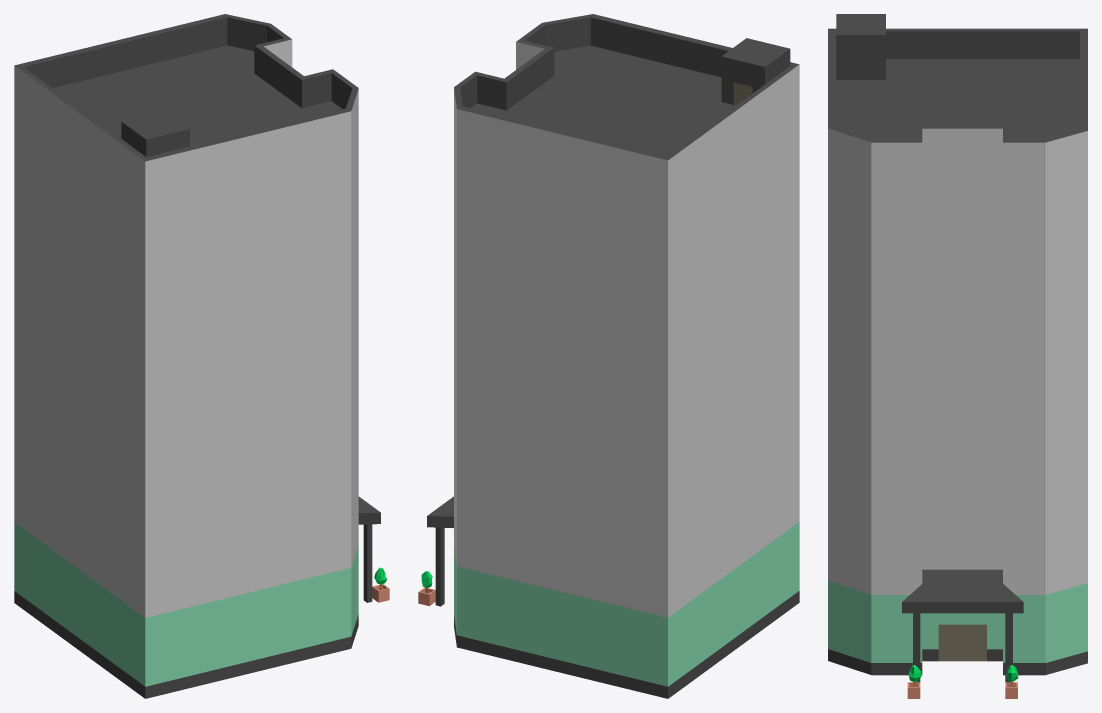
File: Predio2.fbx
3 renders of one model, left to right at view 1: azimuth 30°, elevation 25°; view 2: azimuth 150°, elevation 25°; view 3: azimuth 270°, elevation 25°, orthographic.
Parts seen in each view (by area): view 1: Cube.001; view 2: Cube.001; view 3: Cube.001, Cube.
Part boxes in pixels (bbox=[...]): Cube.001: bbox=[14, 14, 380, 698]; Cube.001: bbox=[427, 14, 799, 698]; Cube.001: bbox=[828, 14, 1087, 682]; Cube: bbox=[907, 665, 921, 698].
Bounding box in the file's own units: 605 × 1127 × 483.
